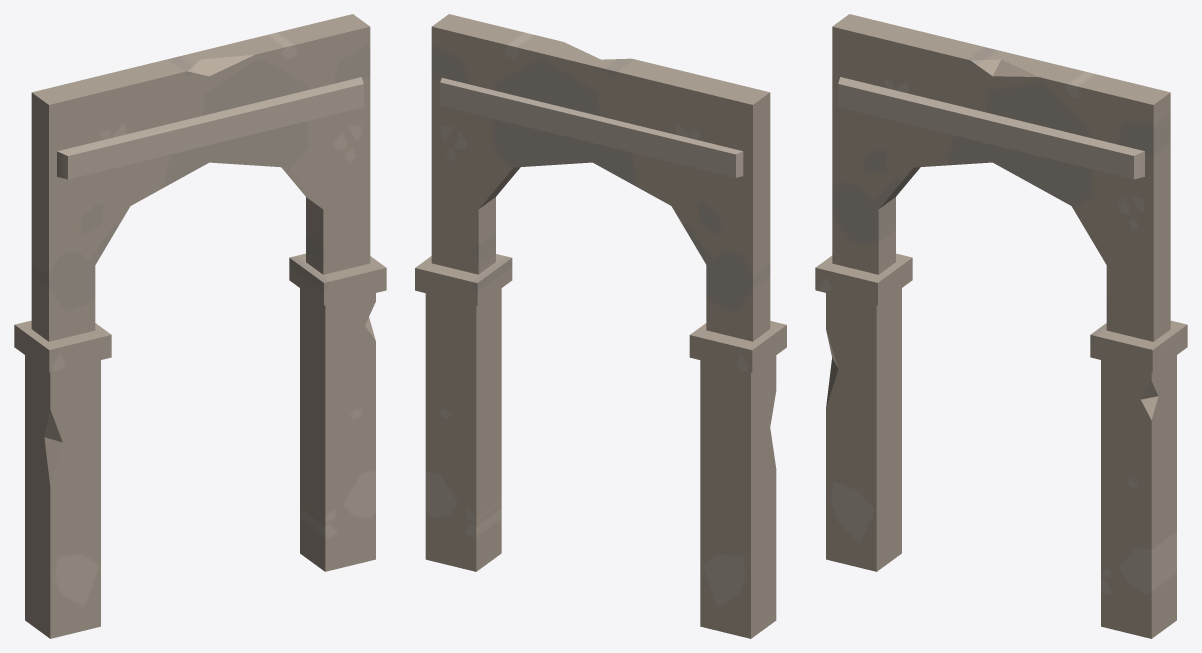
File: SM_Bld_Village_Archway_Single_01.fbx
3 views of the same model, side by side, from view 1: azimuth 30°, elevation 25°; view 2: azimuth 150°, elevation 25°; view 3: azimuth 330°, elevation 25° (orthographic).
Parts seen in each view (by area): view 1: SM_Bld_Village_Archway_Single_01; view 2: SM_Bld_Village_Archway_Single_01; view 3: SM_Bld_Village_Archway_Single_01.
Boxes of the visible parts, x1,y1,x2,y2 form: SM_Bld_Village_Archway_Single_01: (14,14,386,638); SM_Bld_Village_Archway_Single_01: (415,14,786,638); SM_Bld_Village_Archway_Single_01: (815,14,1187,638).
Size of the model in its own units: 282 by 423 by 50.21.
